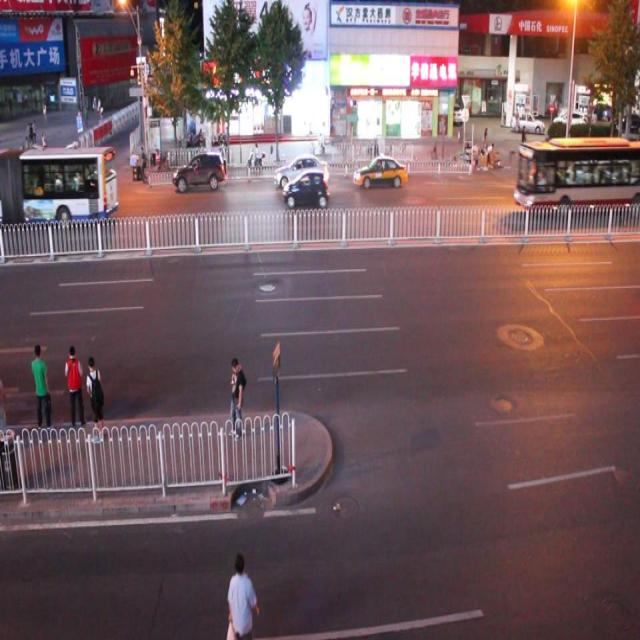car: (512, 136, 640, 214), (1, 144, 118, 227), (172, 149, 226, 190), (273, 154, 328, 190), (353, 155, 406, 190), (10, 175, 62, 210), (284, 170, 329, 207), (1, 165, 14, 199)
